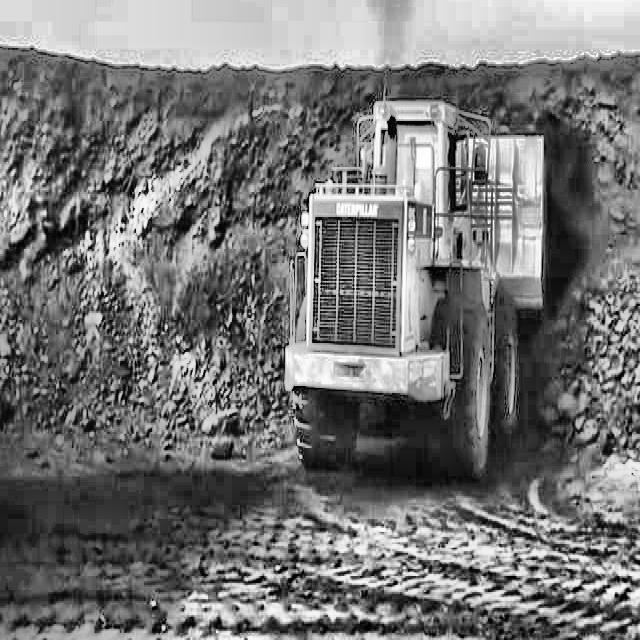buldozerpayloadergrader: (284, 87, 547, 487)
